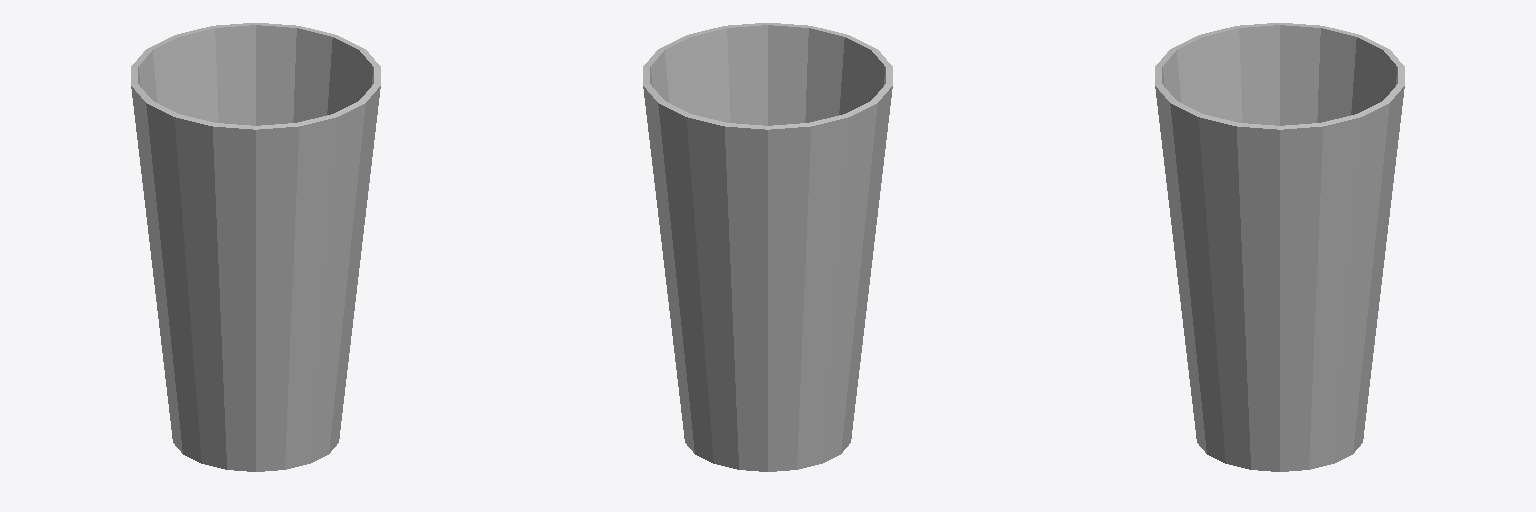
File: Glass001.obj
3 views of the same model, side by side, from view 1: azimuth 30°, elevation 25°; view 2: azimuth 150°, elevation 25°; view 3: azimuth 270°, elevation 25° (orthographic).
Parts seen in each view (by area): view 1: Cylinder001; view 2: Cylinder001; view 3: Cylinder001.
Part boxes in pixels (x1,y1,x2,y2): Cylinder001: (131, 23, 380, 471); Cylinder001: (643, 23, 892, 471); Cylinder001: (1155, 23, 1404, 471).
Size of the model in its own units: 6.38 by 10.02 by 6.28.